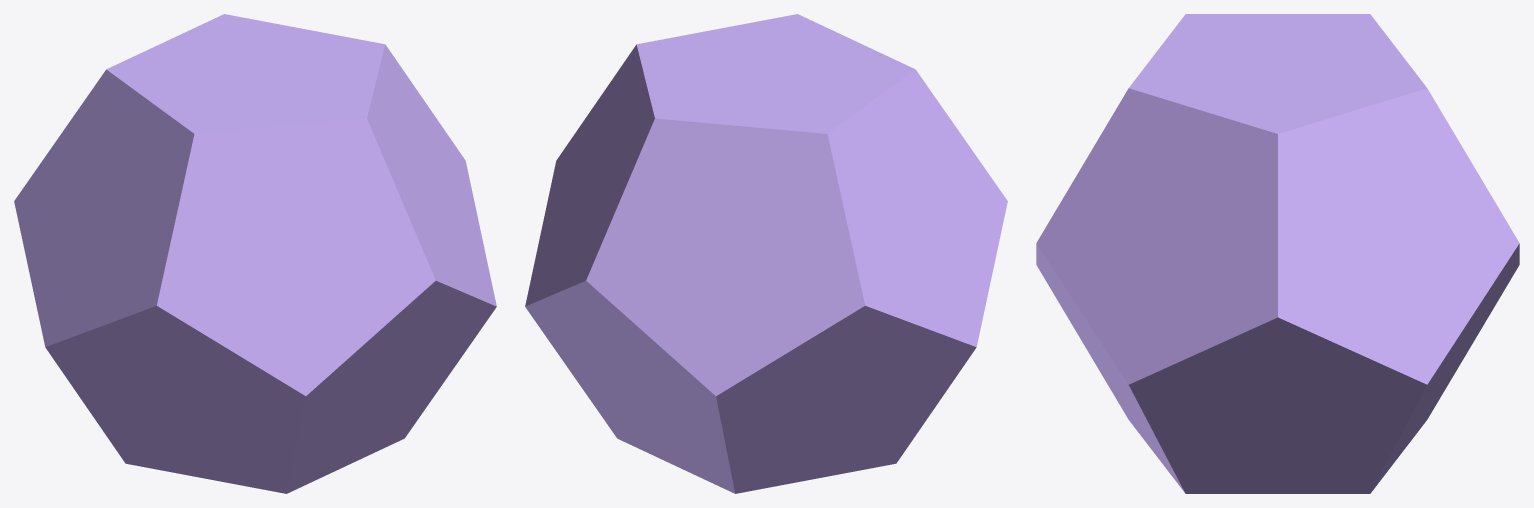
Rendered from dodecahedron.obj.
3 renders of one model, left to right at view 1: azimuth 30°, elevation 25°; view 2: azimuth 150°, elevation 25°; view 3: azimuth 270°, elevation 25°, orthographic. The views are drawn at different scales.
Parts seen in each view (by area): view 1: Solid; view 2: Solid; view 3: Solid.
Part boxes in pixels (x1,y1,x2,y2): Solid: [14, 14, 496, 493]; Solid: [525, 14, 1007, 493]; Solid: [1036, 14, 1519, 493].
Bounding box in the file's own units: 19.64 × 15.89 × 18.68.
